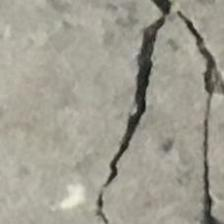Crack: (80, 0, 224, 224)
